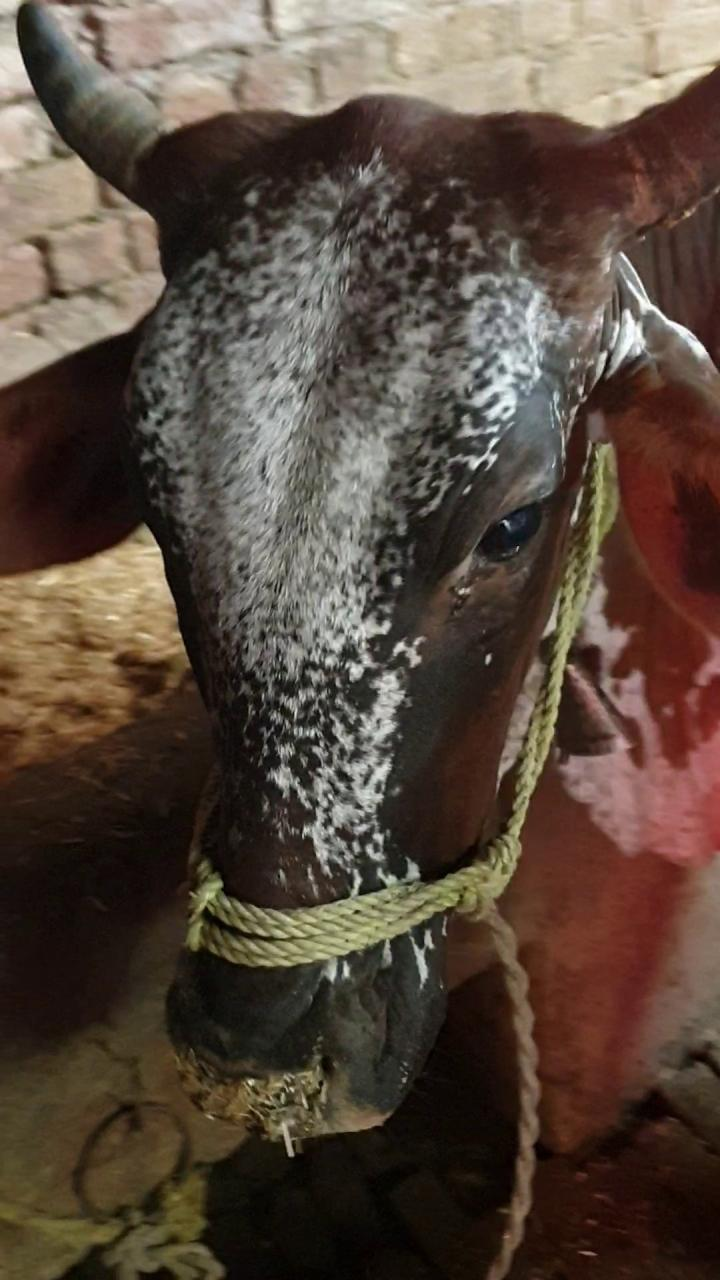cows: (131, 90, 532, 1182)
